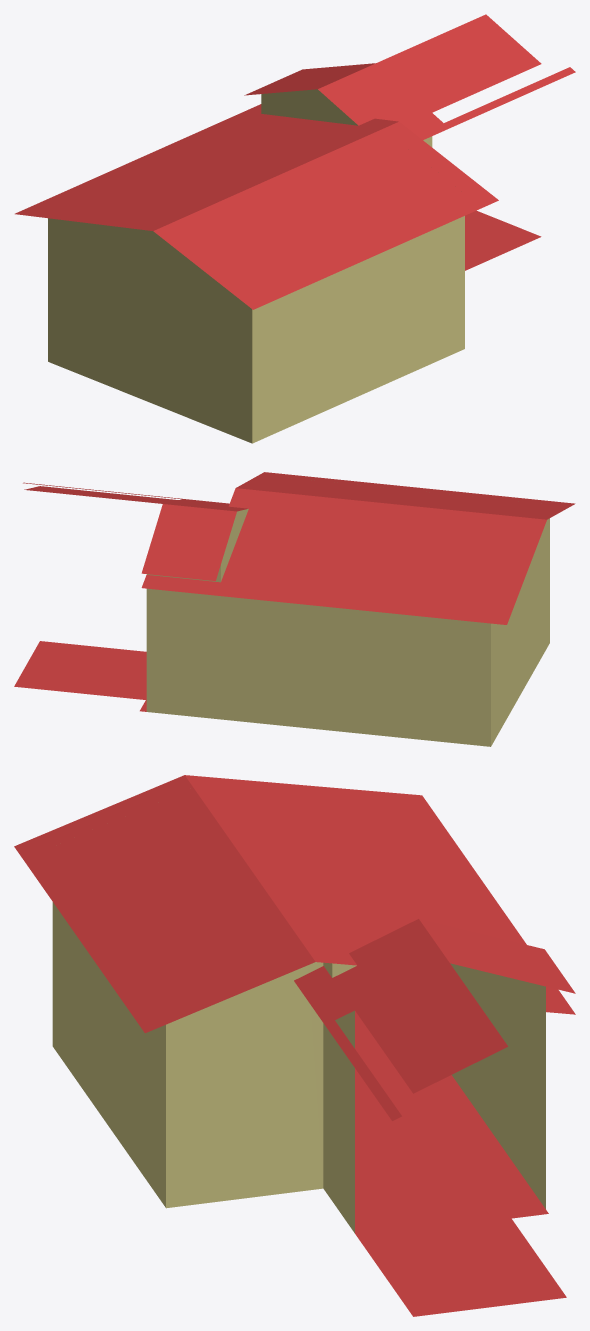
3 views of the same model, one above another, from view 1: azimuth 30°, elevation 25°; view 2: azimuth 150°, elevation 25°; view 3: azimuth 270°, elevation 25° (orthographic). The views are drawn at different scales.
Size of the model in its own units: 19.72 by 13.51 by 6.85.
